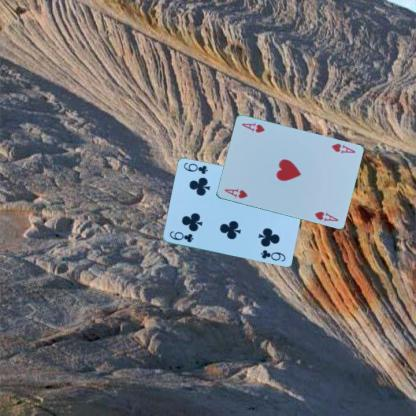6c: (167, 228, 194, 244)
Ah: (221, 186, 249, 200), (328, 141, 356, 155)
